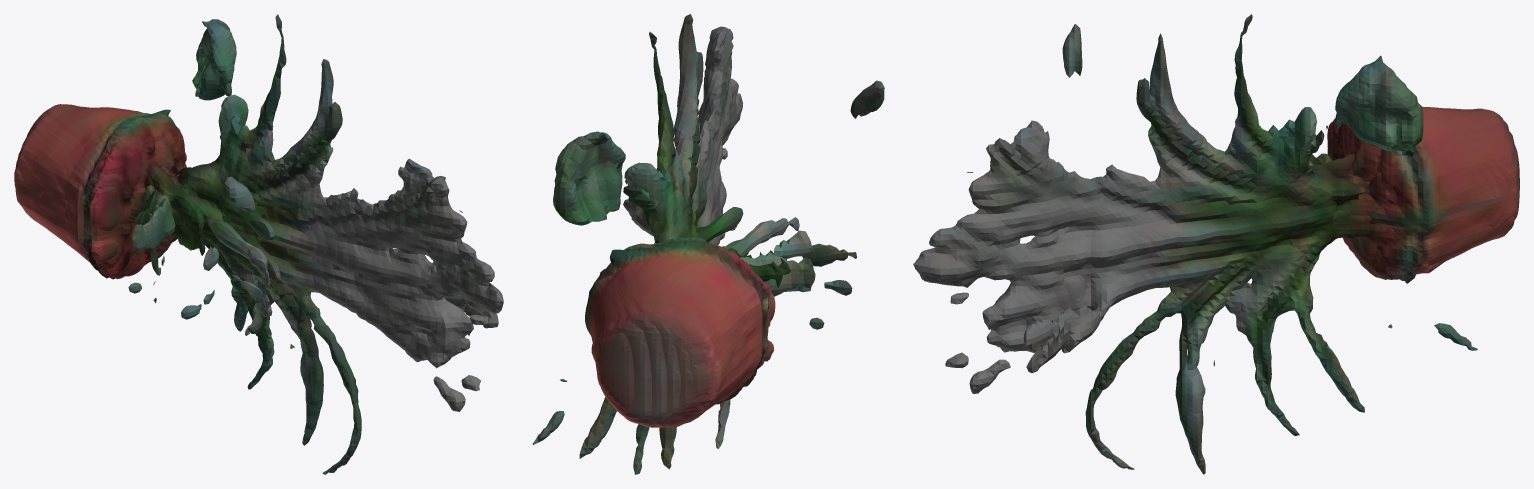
The picture shows the model from 3 angles, left to right: view 1: azimuth 30°, elevation 25°; view 2: azimuth 150°, elevation 25°; view 3: azimuth 270°, elevation 25°; orthographic projection. The views are drawn at different scales.
Bounding box in the file's own units: 0.4613 × 0.6464 × 0.7718.
